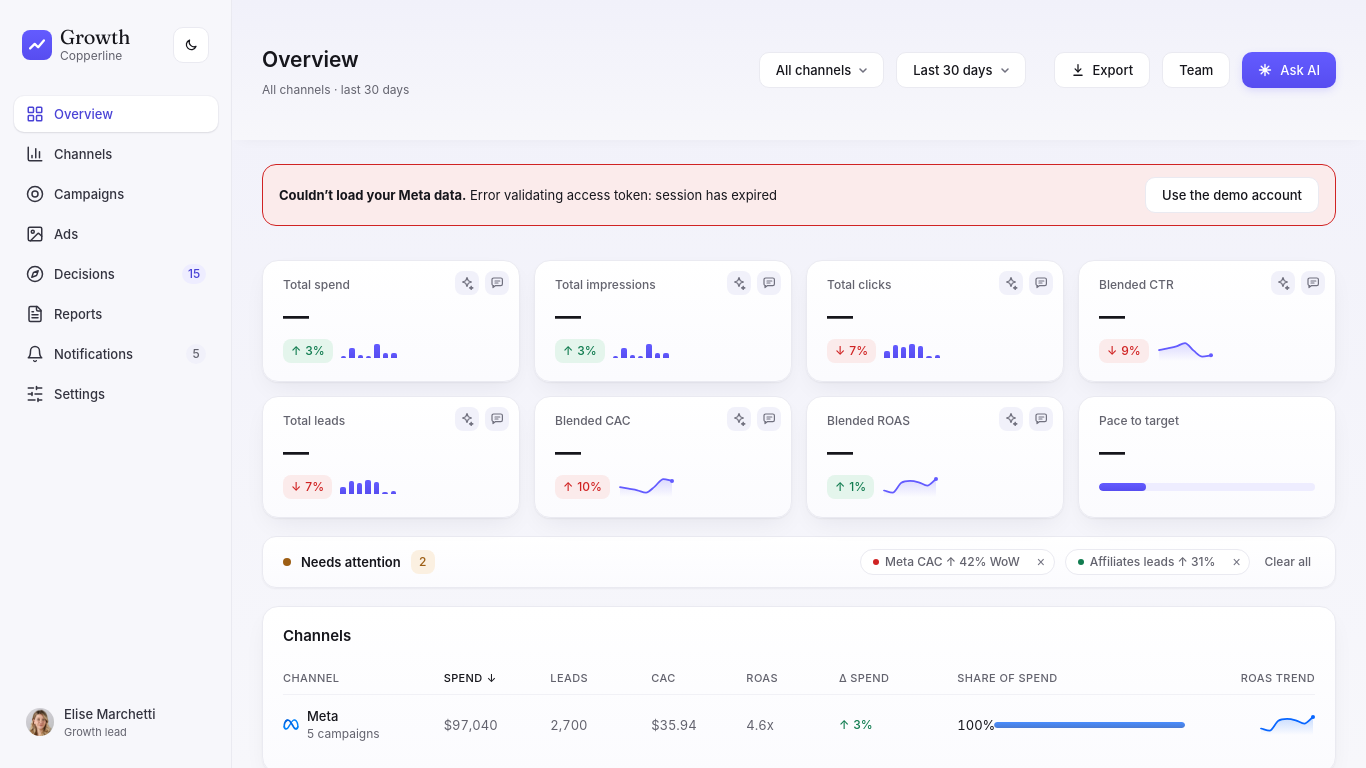
Test case: the product on a real Meta account › a failed load says why, and offers the way back
Expected: the message shows "session has expired", [470, 187, 777, 203]
Step 1. Click the button "Use the demo account" → click(1232, 195), box [1145, 177, 1319, 213]
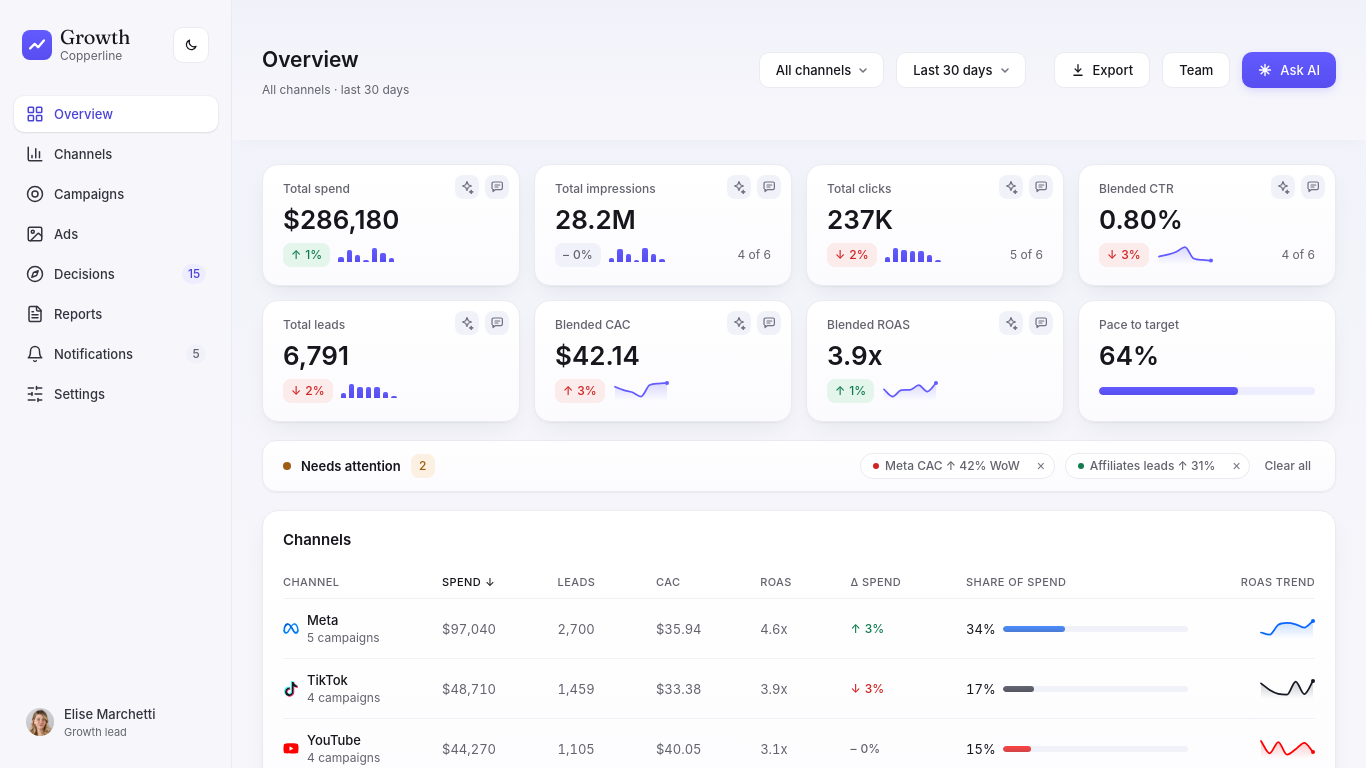
Result: the text "session has expired" is gone
